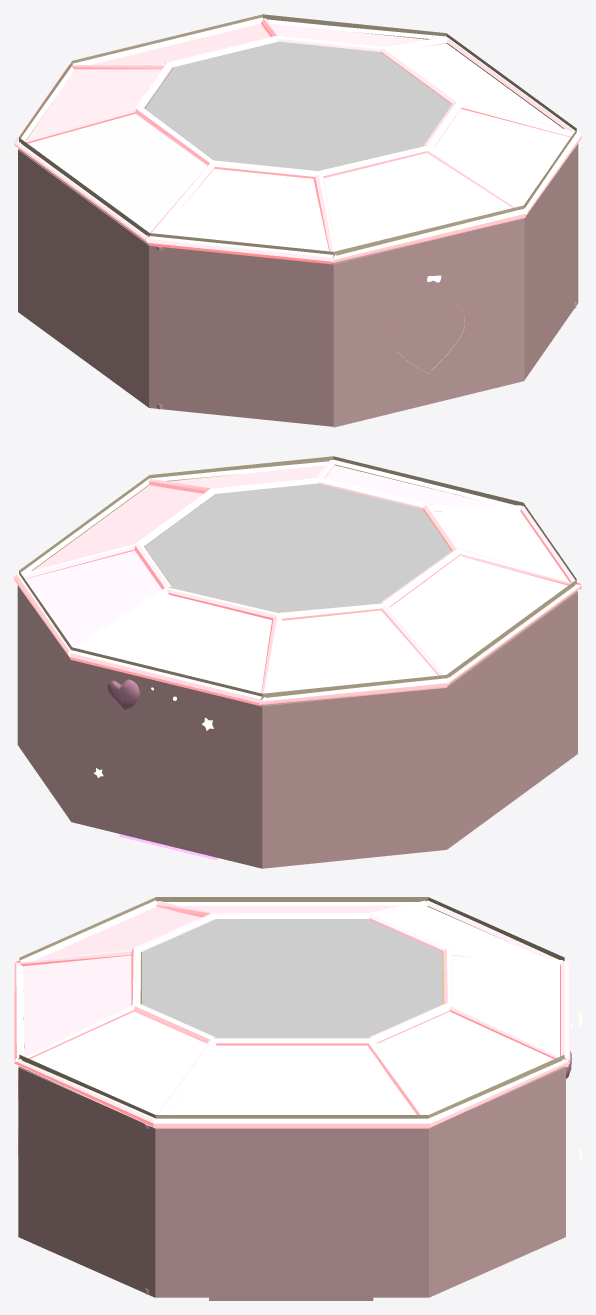
File: public loby fbx.fbx
3 renders of one model, top to bottom at view 1: azimuth 30°, elevation 25°; view 2: azimuth 150°, elevation 25°; view 3: azimuth 270°, elevation 25°, orthographic. The views are drawn at different scales.
Visible parts, largest first — view 1: cell, Plane, colli; view 2: cell, Plane, colli, Cube; view 3: cell, Plane, colli.
Boxes of the visible parts, x1,y1,x2,y2 form: cell: (14,17,581,264); Plane: (18,143,578,427); colli: (19,14,576,263); cell: (14,459,581,706); Plane: (17,585,577,868); colli: (19,456,576,705); Cube: (94,679,218,859); cell: (14,900,570,1128); Plane: (18,1058,565,1300); colli: (19,897,564,1118).
Size of the model in its own units: 2588 by 1250 by 2799.
